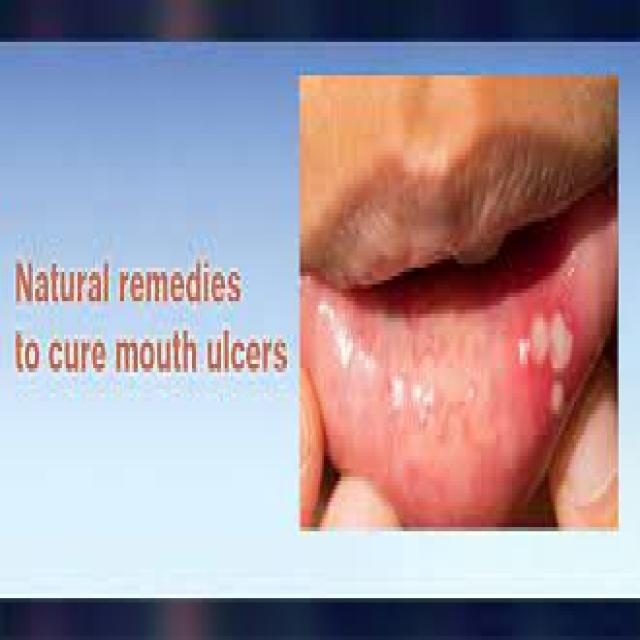processing_area: (299, 211, 617, 536)
ulcer-detection: (506, 260, 598, 444)
